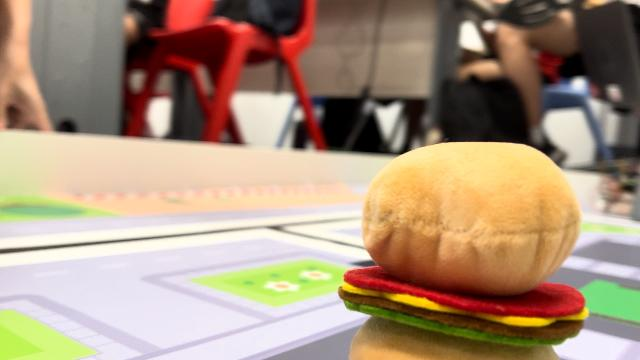burger: (336, 135, 592, 346)
